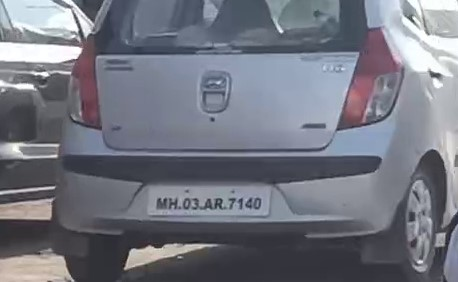MH03AR7140: (148, 185, 272, 215)
